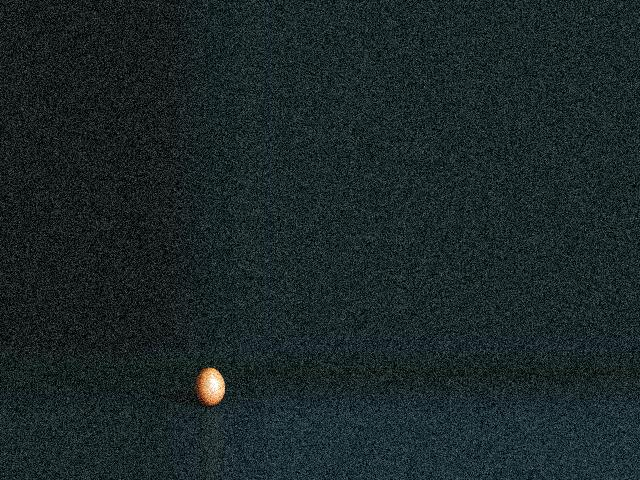egg: (194, 367, 224, 406)
